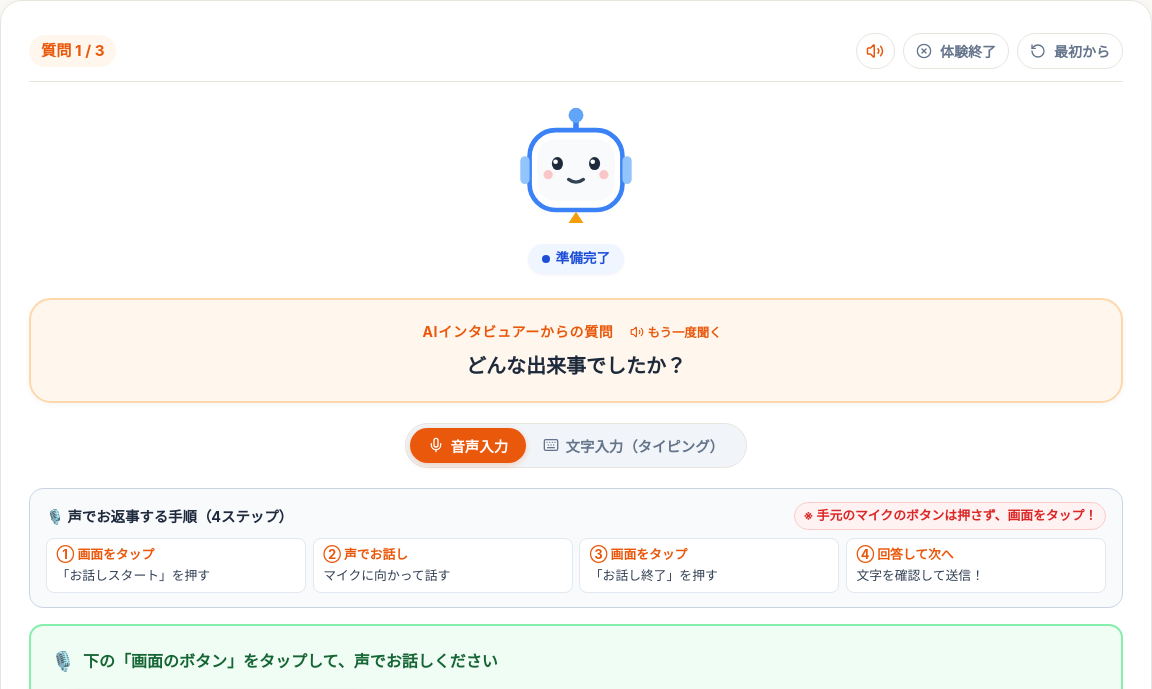
Scenario: UIコンポーネントテスト › インタビュー画面: 体験中に音声入力と文字入力をリアルタイムに切り替えられる
Expected: the text "下の「画面のボタン」をタップして、声でお話しください" is shown, [83,649,498,674]
「文字入力（タイピング）」タブをクリック
Click the button "文字入力（タイピング）". click: (634, 445)
box: [526,428,742,463]
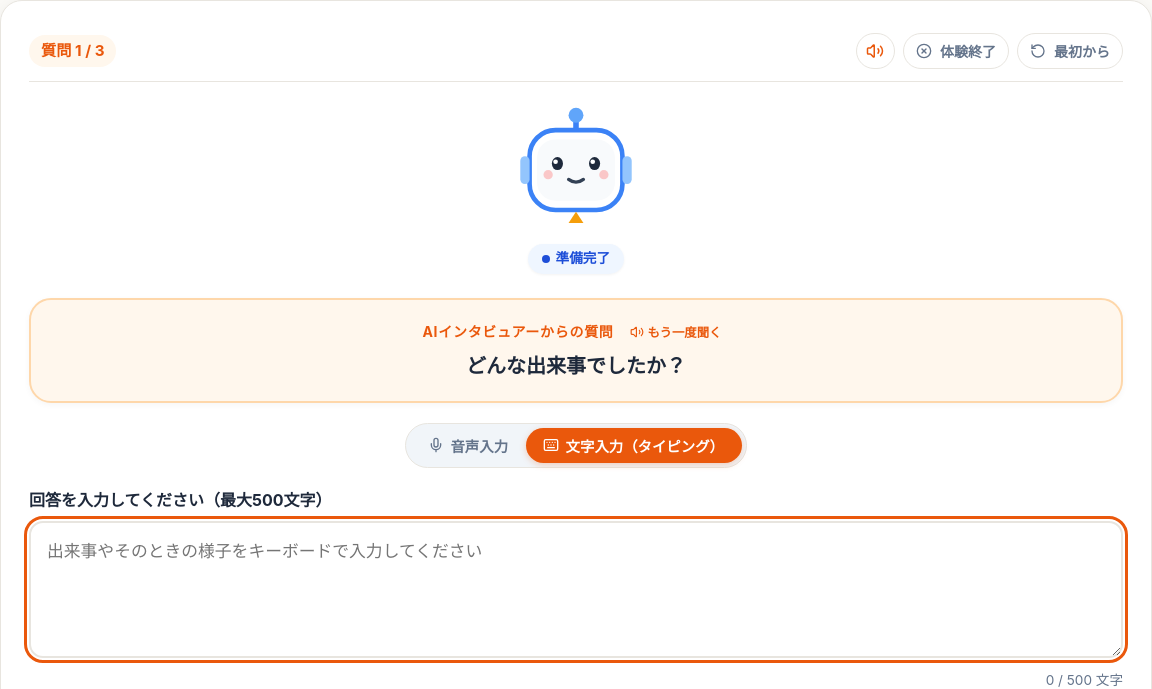
Expected: the text box is shown, [29,522,1123,658]
再度「音声入力」タブをクリックして切り替え
Click the button "音声入力". click: (468, 445)
box: [410,428,526,463]
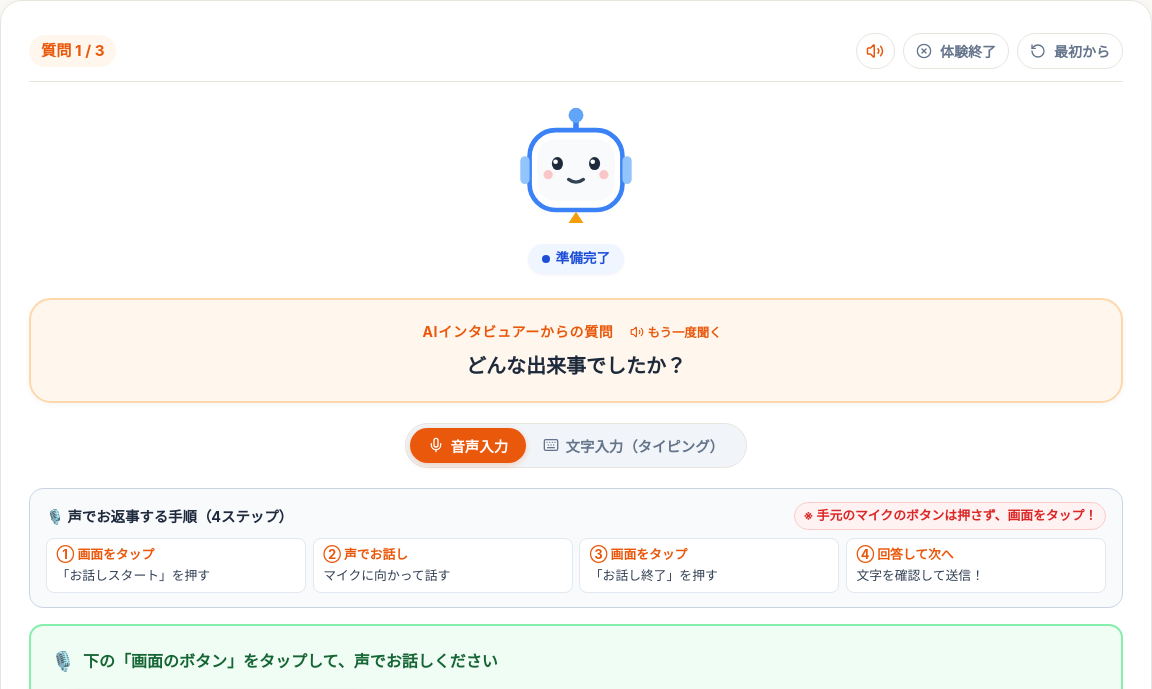
Expected: the text "下の「画面のボタン」をタップして、声でお話しください" is shown, [83,649,498,674]
